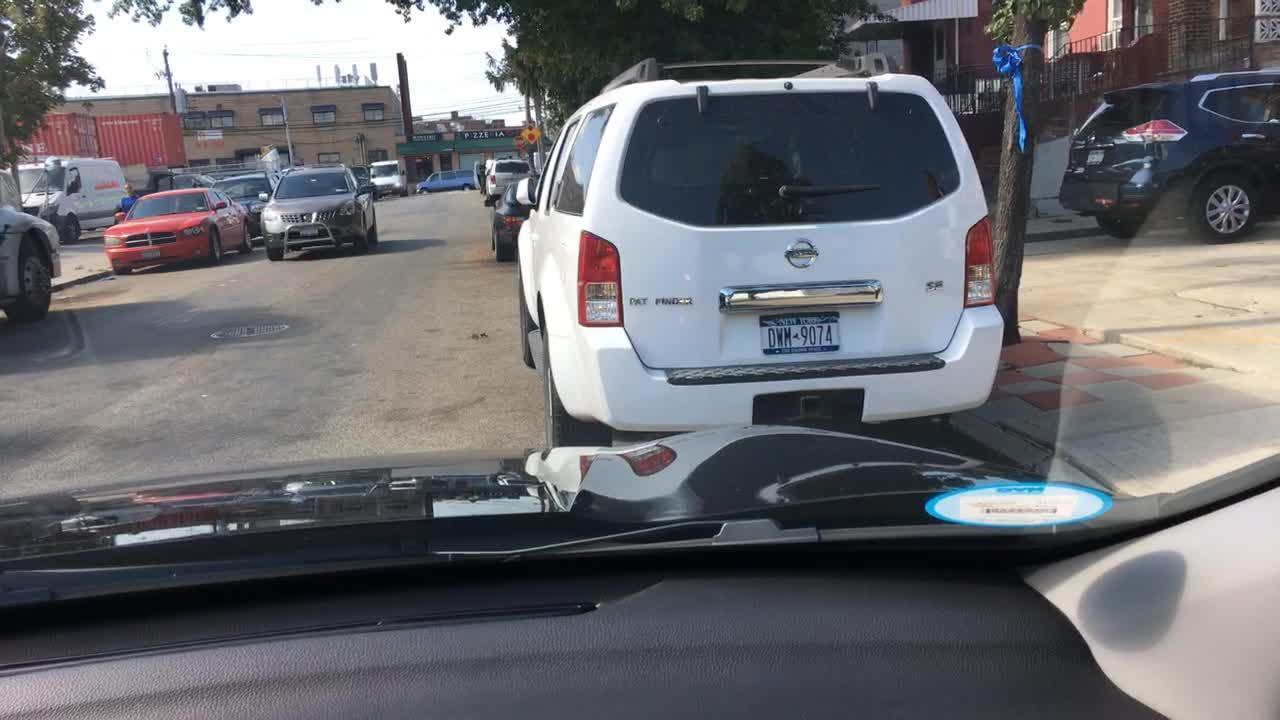Nissan: (771, 227, 827, 277)
